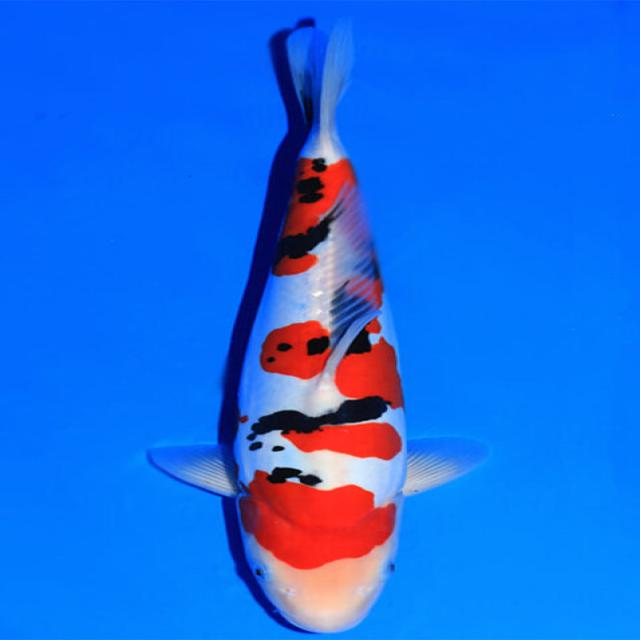Sanke: (145, 16, 488, 634)
